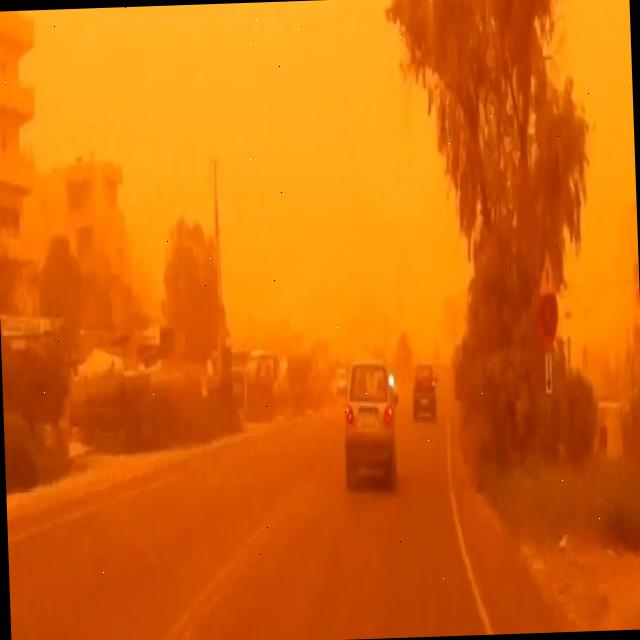car: (339, 359, 399, 490), (409, 362, 437, 421)
